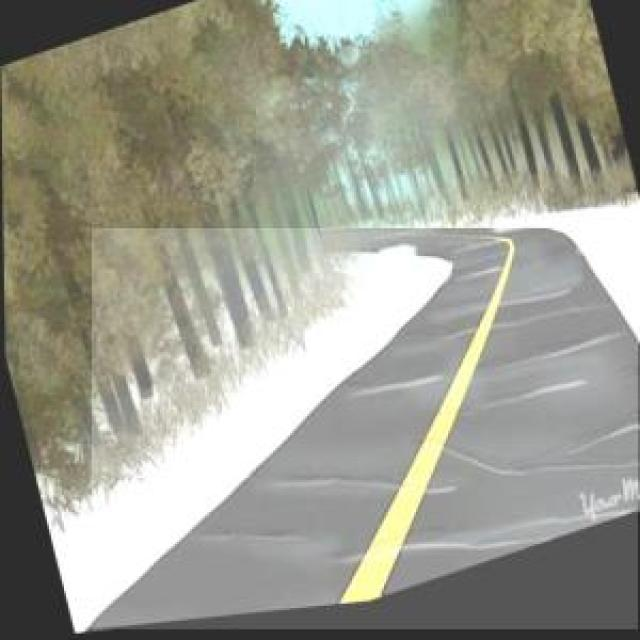clear-road: (92, 230, 640, 629)
